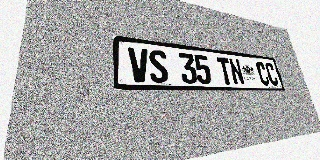3: (178, 53, 198, 84)
5: (193, 54, 212, 84)
C: (255, 61, 271, 86), (264, 62, 279, 86)
N: (228, 58, 245, 85)
S: (148, 49, 169, 83)
T: (216, 57, 234, 85)
V: (128, 47, 150, 83)
